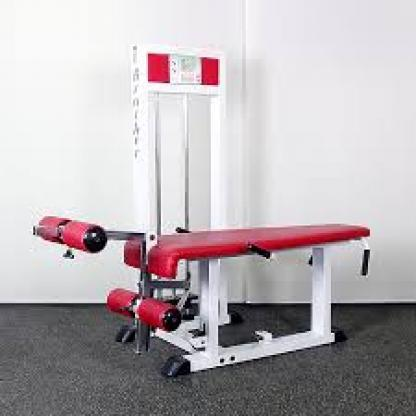reg curl machine: (37, 38, 374, 377)
